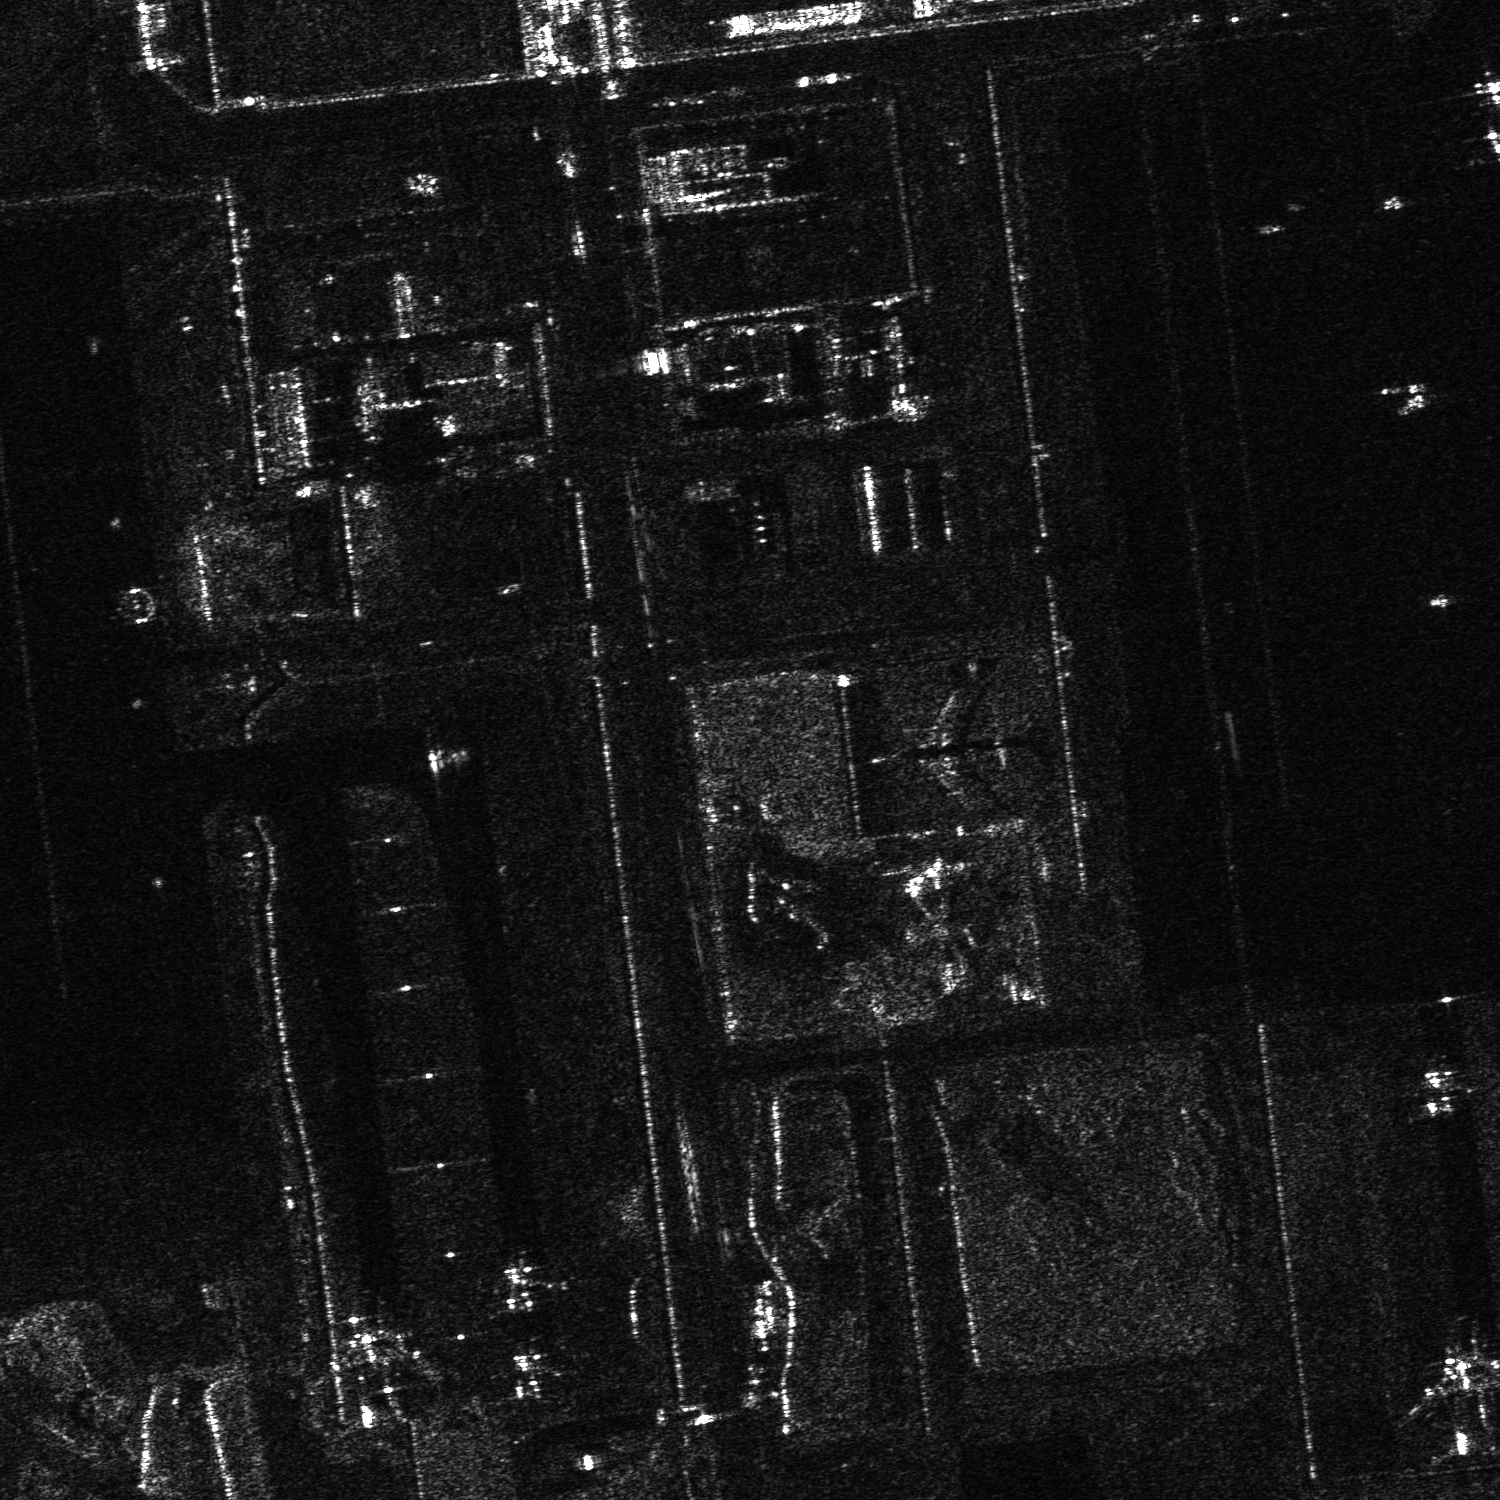A220: (1398, 1059, 1477, 1124)
other: (857, 650, 1056, 826), (1397, 1334, 1499, 1464), (1430, 52, 1499, 172)
